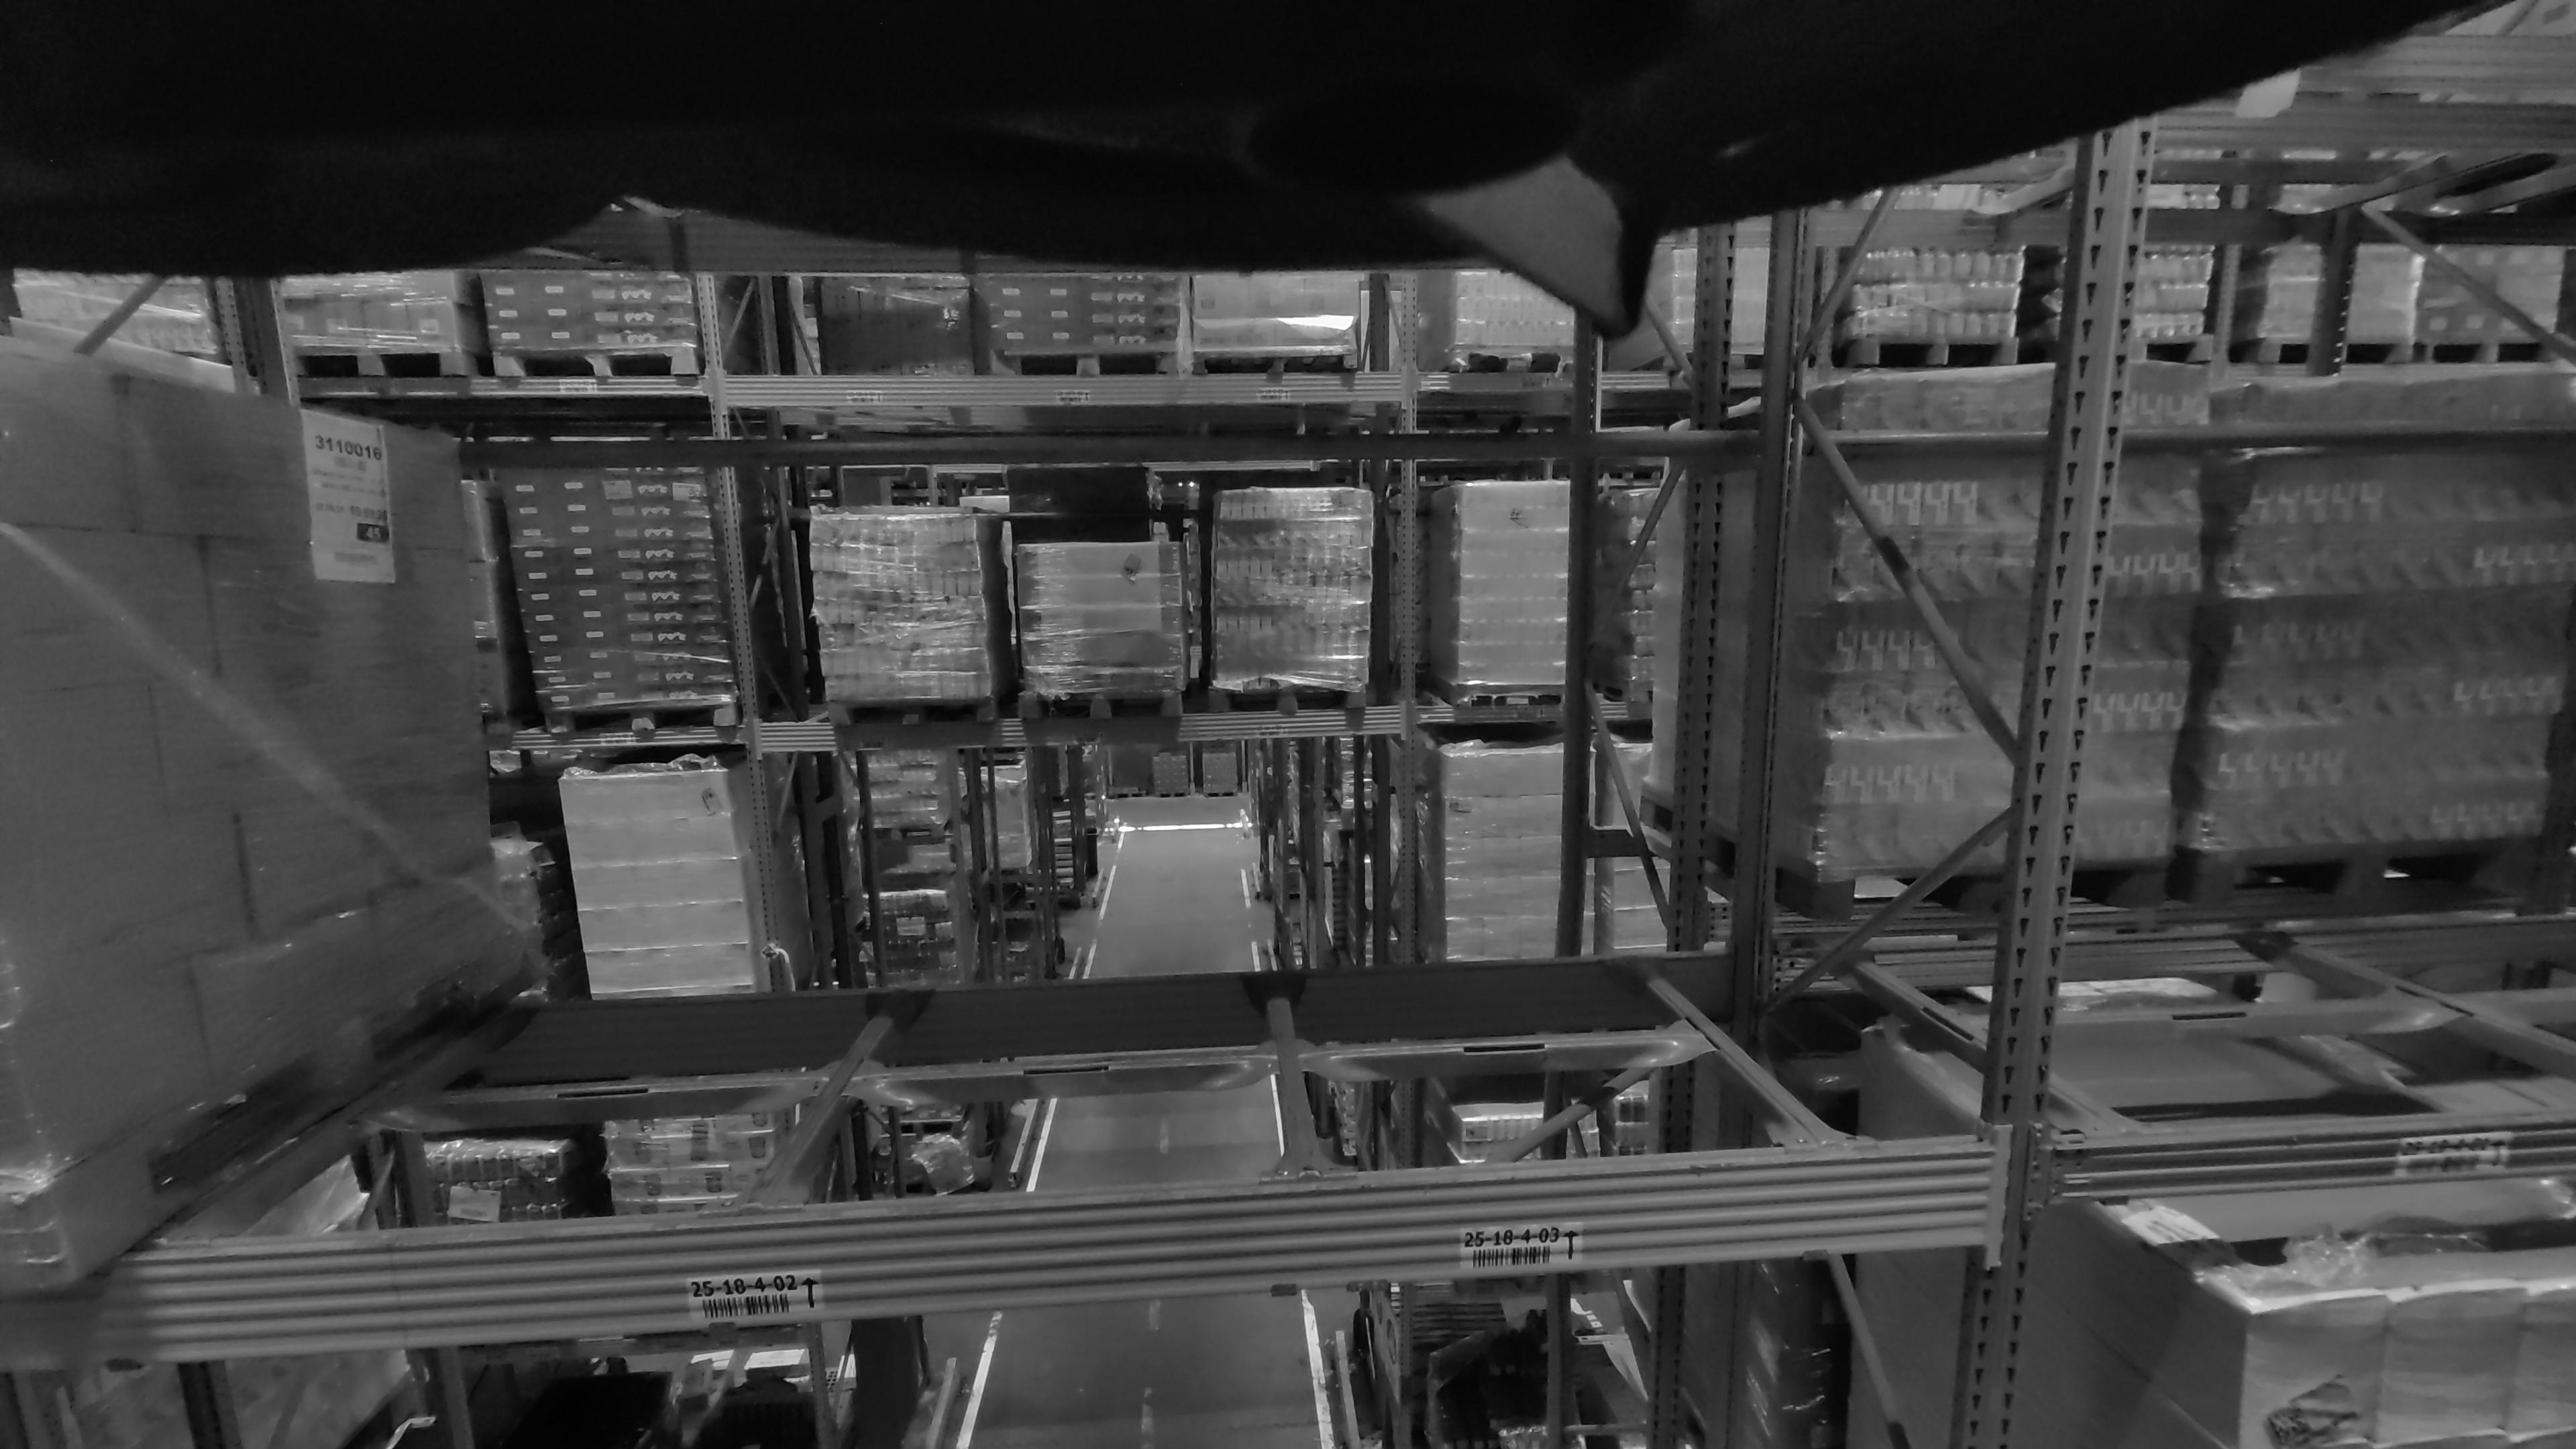empty-shelf: (1164, 193, 1888, 1162), (356, 226, 1031, 1194), (2130, 0, 2576, 1116)
